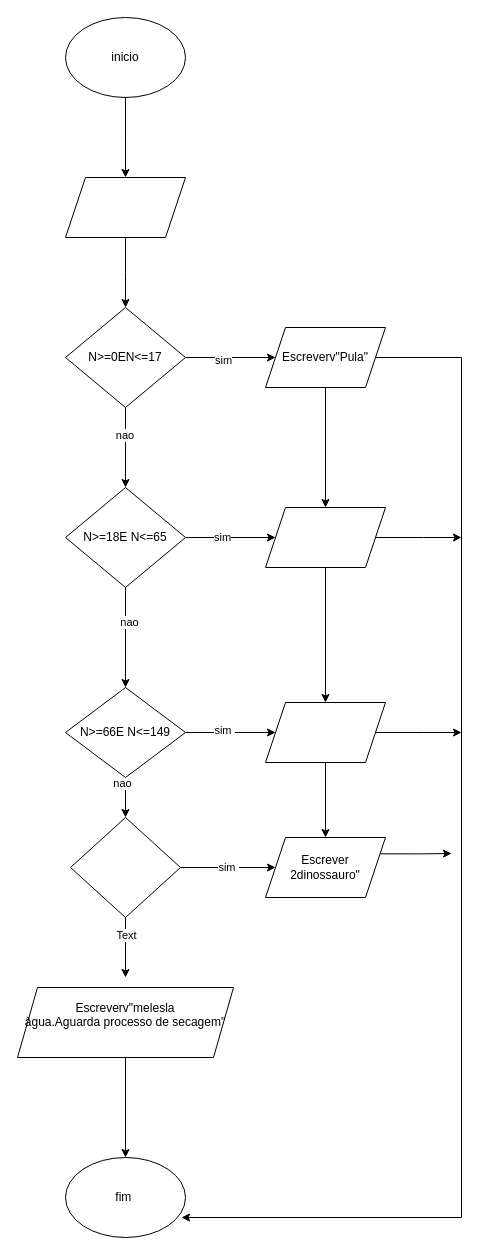
Some shapes in this 487 by 1255 pixel diagram are drawn without their labels. The shapes that lost their labels are listed below. From the top down, each one's centre as x and y in pixels, then its label:
pixel 125 207: ler n
pixel 325 537: Escrever "adulto2
pixel 325 732: Escrever "velinho"
pixel 125 867: n<149
